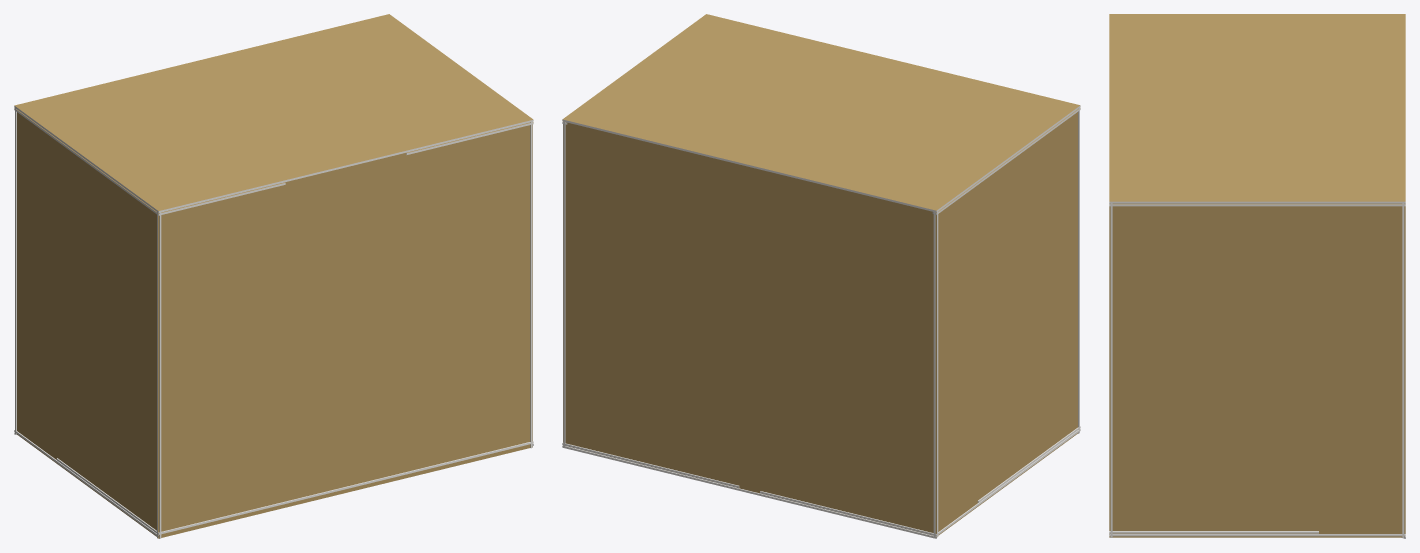
3 renders of one model, left to right at view 1: azimuth 30°, elevation 25°; view 2: azimuth 150°, elevation 25°; view 3: azimuth 270°, elevation 25°, orthographic. The views are drawn at different scales.
Parts seen in each view (by area): view 1: Packive_Box_fefco0215; view 2: Packive_Box_fefco0215; view 3: Packive_Box_fefco0215.
Part boxes in pixels (box(x1,y1,x2,y2)): Packive_Box_fefco0215: box(14, 14, 533, 538); Packive_Box_fefco0215: box(562, 14, 1080, 538); Packive_Box_fefco0215: box(1109, 14, 1405, 538).
Size of the model in its own units: 0.3 by 0.2515 by 0.2.
Materials: 26 (13 with a texture image).
